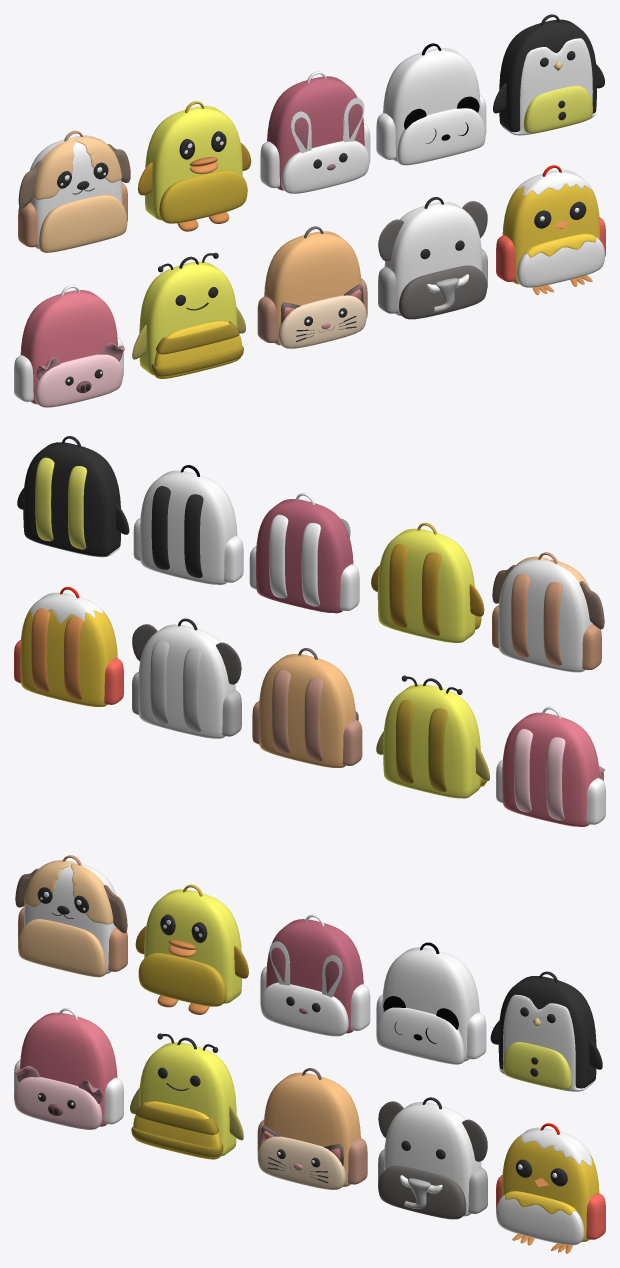
The model's file is bag.glb.
3 renders of one model, top to bottom at view 1: azimuth 30°, elevation 25°; view 2: azimuth 150°, elevation 25°; view 3: azimuth 330°, elevation 25°, orthographic.
Visible parts, largest first — view 1: Kubus.021_36, Kubus.045_66, Kubus.039_58, Kubus.030_78, Kubus.010_17, Kubus.004_11, Kubus_0, Kubus.054_85, Kubus.028_46, Kubus.003_10, Kubus.014_26, Kubus.009_16 (+25 smaller); view 2: Kubus.014_26, Kubus.021_36, Kubus.010_17, Kubus.039_58, Kubus.004_11, Kubus_0, Kubus.045_66, Kubus.030_78, Kubus.027_45, Kubus.054_85, Kubus.063_116, Kubus.040_105 (+28 smaller); view 3: Kubus.021_36, Kubus.045_66, Kubus.039_58, Kubus.030_78, Kubus.010_17, Kubus.004_11, Kubus_0, Kubus.054_85, Kubus.028_46, Kubus.003_10, Kubus.014_26, Kubus.009_16 (+25 smaller).
Part boxes in pixels (x1,y1,x2,y2): Kubus.021_36: (139, 261, 237, 375); Kubus.045_66: (264, 231, 361, 345); Kubus.039_58: (20, 290, 117, 404); Kubus.030_78: (384, 202, 482, 315); Kubus.010_17: (144, 106, 242, 220); Kubus.004_11: (383, 48, 480, 161); Kubus_0: (267, 76, 364, 190); Kubus.054_85: (502, 184, 599, 284); Kubus.028_46: (39, 194, 127, 252); Kubus.003_10: (397, 108, 485, 165); Kubus.014_26: (499, 19, 596, 132); Kubus.009_16: (159, 169, 247, 223); Kubus.014_26: (23, 442, 120, 556); Kubus.021_36: (383, 684, 480, 798); Kubus.010_17: (377, 528, 475, 642); Kubus.039_58: (502, 712, 599, 826); Kubus.004_11: (140, 470, 237, 584); Kubus_0: (256, 499, 353, 613); Kubus.045_66: (258, 654, 356, 767); Kubus.030_78: (138, 624, 235, 738); Kubus.027_45: (498, 559, 592, 672); Kubus.054_85: (20, 609, 117, 706); Kubus.063_116: (304, 678, 323, 761); Kubus.040_105: (543, 582, 562, 665); Kubus.021_36: (139, 1042, 236, 1156); Kubus.045_66: (263, 1072, 360, 1186); Kubus.039_58: (20, 1012, 117, 1126); Kubus.030_78: (384, 1102, 481, 1216); Kubus.010_17: (144, 889, 241, 1003); Kubus.004_11: (382, 947, 479, 1061); Kubus_0: (266, 919, 363, 1033); Kubus.054_85: (502, 1136, 599, 1241); Kubus.028_46: (18, 919, 106, 977); Kubus.003_10: (376, 1007, 464, 1064); Kubus.014_26: (498, 976, 596, 1088); Kubus.009_16: (138, 953, 226, 1006).
Bounding box in the file's own units: 14.88 × 6.48 × 1.35.
